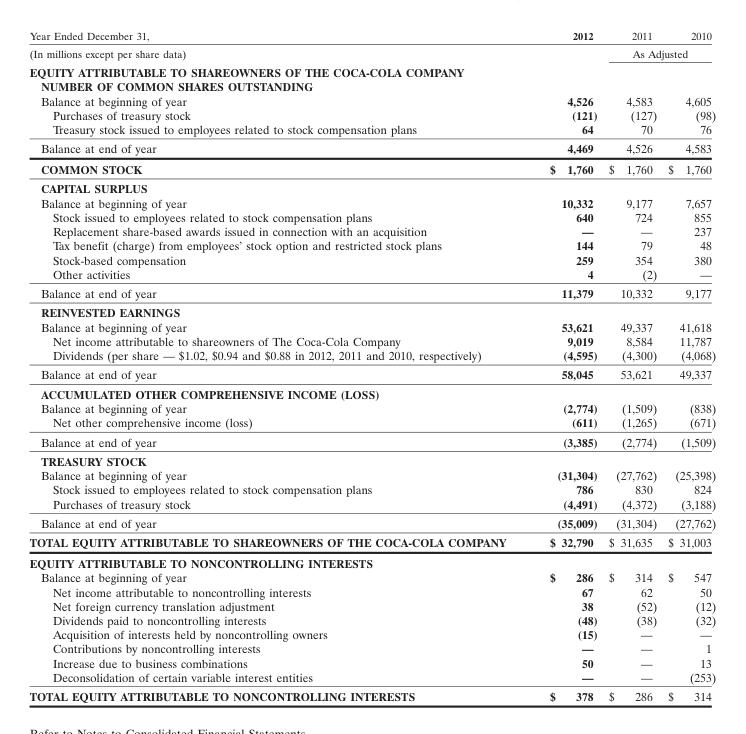table: (28, 28, 715, 703)
table column: (28, 28, 527, 703), (527, 28, 602, 703), (602, 28, 661, 703), (661, 28, 715, 703)
table column header: (28, 28, 715, 44)
table projected row header: (28, 552, 715, 570), (28, 62, 715, 79), (28, 178, 715, 195), (28, 302, 715, 319), (28, 384, 715, 400), (28, 451, 715, 467), (28, 79, 715, 93)
table row: (28, 138, 715, 158), (28, 158, 715, 178), (28, 364, 715, 384), (28, 431, 715, 451), (28, 532, 715, 552), (28, 283, 715, 302), (28, 513, 715, 532), (28, 44, 715, 62), (28, 552, 715, 570), (28, 62, 715, 79), (28, 121, 715, 138), (28, 178, 715, 195), (28, 266, 715, 283), (28, 302, 715, 319), (28, 347, 715, 364), (28, 496, 715, 513), (28, 669, 715, 686), (28, 686, 715, 703), (28, 28, 715, 44), (28, 384, 715, 400), (28, 415, 715, 431), (28, 451, 715, 467), (28, 223, 715, 238), (28, 400, 715, 415), (28, 467, 715, 482), (28, 626, 715, 641), (28, 79, 715, 93), (28, 93, 715, 107), (28, 107, 715, 121), (28, 195, 715, 209), (28, 209, 715, 223), (28, 238, 715, 252), (28, 252, 715, 266), (28, 319, 715, 333), (28, 333, 715, 347), (28, 482, 715, 496), (28, 570, 715, 584), (28, 584, 715, 598), (28, 598, 715, 612), (28, 612, 715, 626), (28, 641, 715, 655), (28, 655, 715, 669)
table spanning cell: (602, 44, 715, 62)
